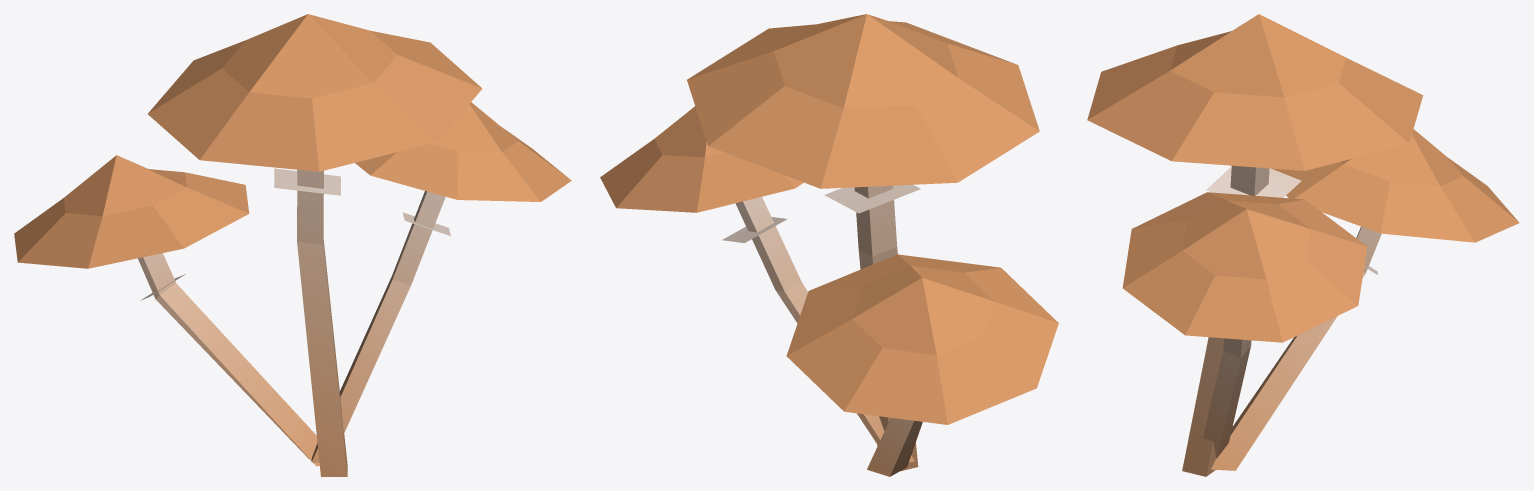
The model's file is Mushroom_i_06.fbx.
3 views of the same model, side by side, from view 1: azimuth 30°, elevation 25°; view 2: azimuth 150°, elevation 25°; view 3: azimuth 270°, elevation 25° (orthographic). The views are drawn at different scales.
Parts seen in each view (by area): view 1: Mushroom_i_06; view 2: Mushroom_i_06; view 3: Mushroom_i_06.
Part boxes in pixels (x1,y1,x2,y2): Mushroom_i_06: (14, 14, 571, 476); Mushroom_i_06: (600, 14, 1058, 476); Mushroom_i_06: (1087, 14, 1519, 476).
Size of the model in its own units: 0.4058 by 0.3688 by 0.3172.
